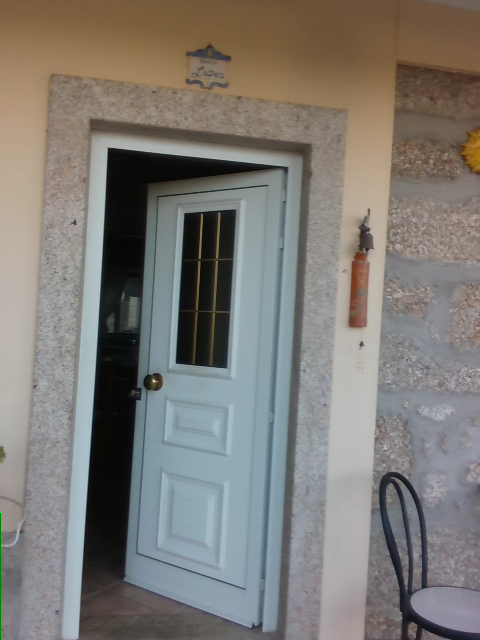semi: (58, 129, 304, 639)
